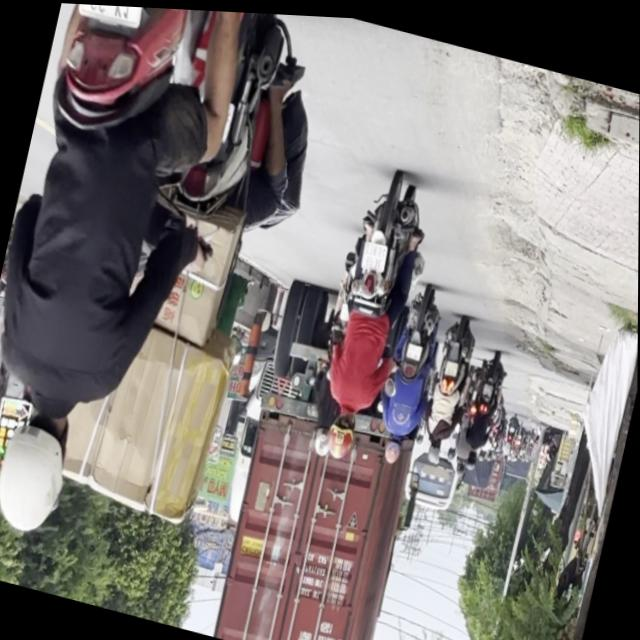helmet: (0, 395, 80, 542), (322, 403, 359, 461)
licenseplate: (0, 0, 287, 576), (298, 157, 439, 473)
nohelmet: (72, 3, 149, 31), (360, 237, 388, 269)
